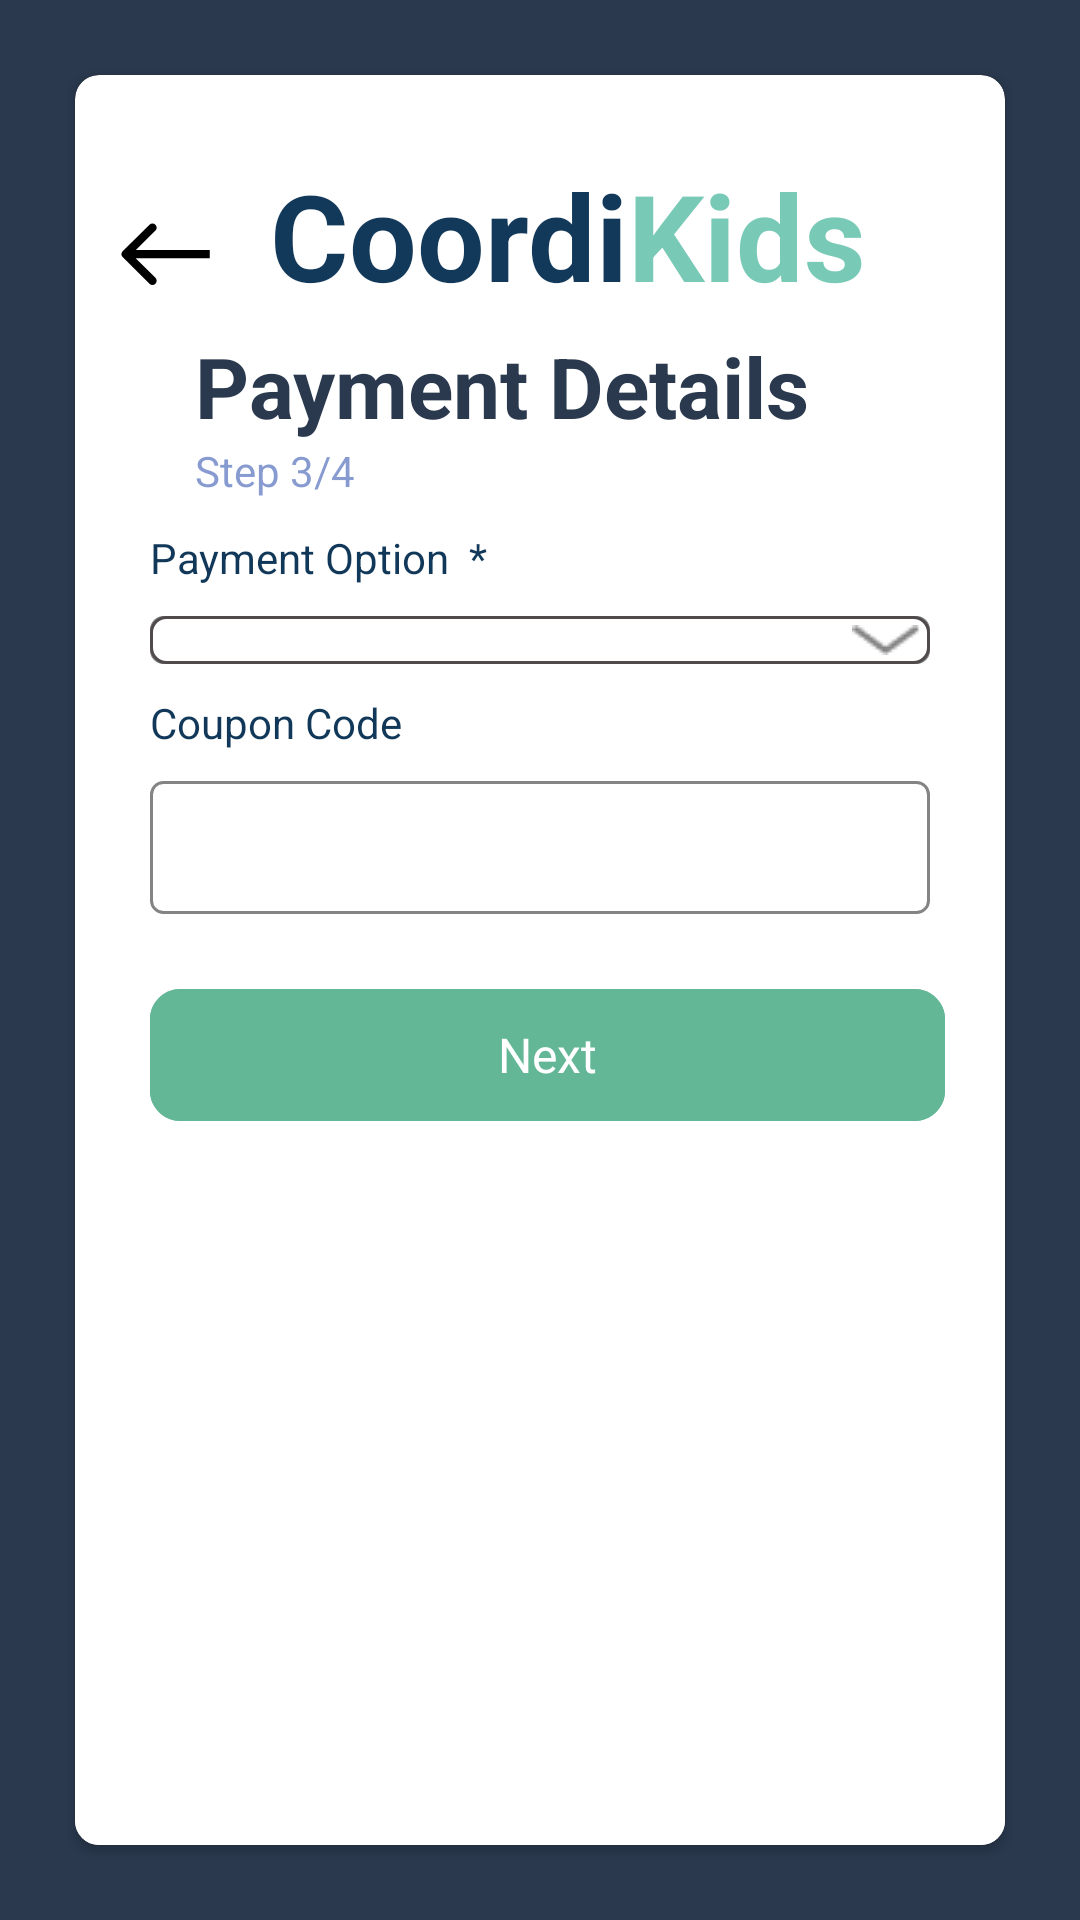

Where to tap for icons on this 1080px x 1920px app screen, as (x,y):
back: (165,254)
